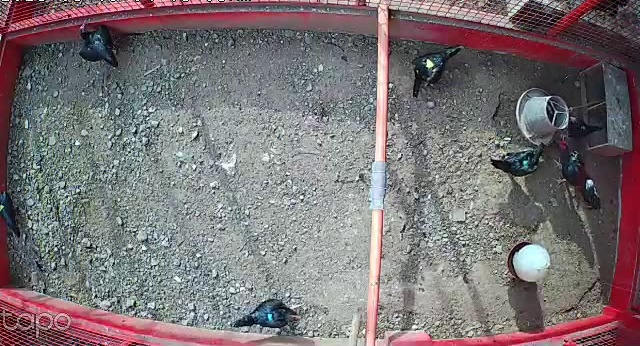Chicken: (407, 42, 463, 101), (230, 296, 307, 331), (71, 17, 122, 69), (488, 139, 548, 178), (0, 185, 27, 241), (557, 113, 605, 144)
Rooster: (552, 138, 601, 210)
Saddle_Color_Blue: (267, 312, 275, 322)
Saddle_Color_Yellow: (424, 57, 435, 71), (0, 204, 6, 211)
